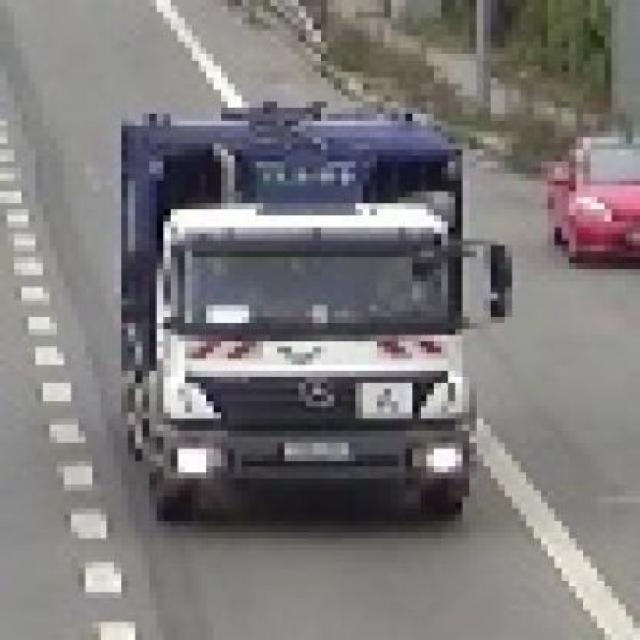truck: (108, 91, 506, 522)
